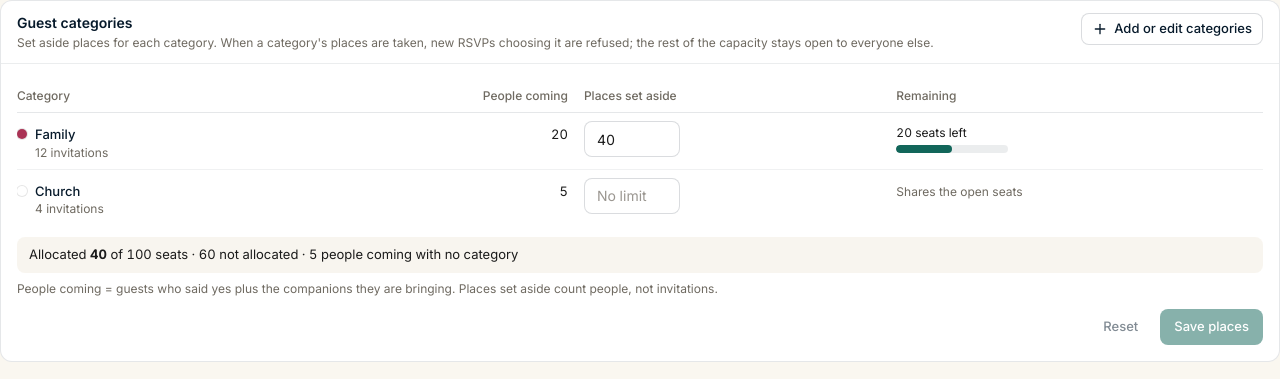
CategoryAllocations › Reset puts back the saved values
The width and height of the screenshot is (1280, 379).
Replace the text in the number field named "Places set aside for Family" with "55" at (632, 139), box 584,121 -> 680,157
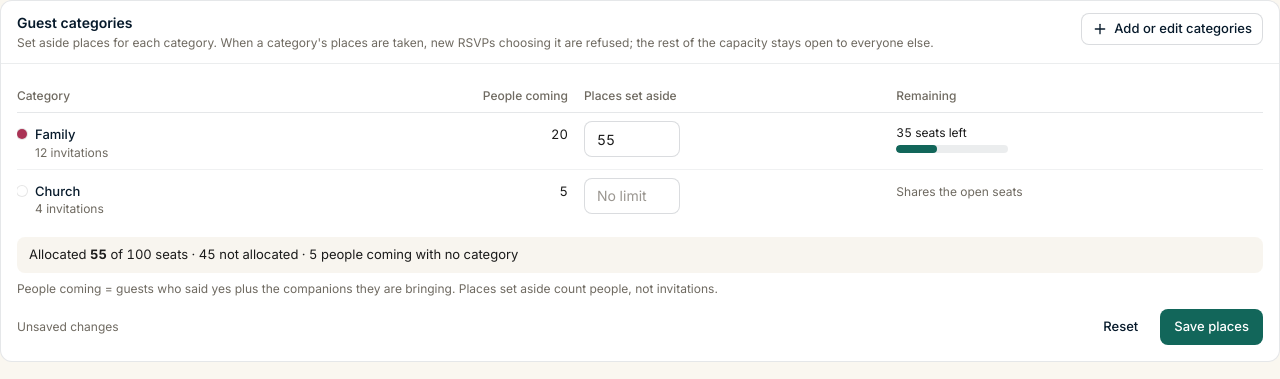
Click the button "Reset" at (1121, 326), box 1089,308 -> 1152,344
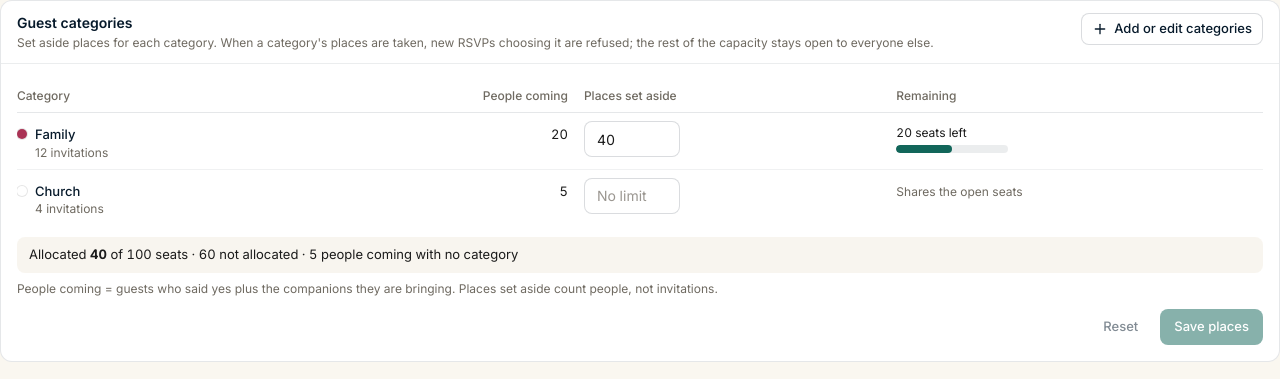
expect the number field named "Places set aside for Family" holds "40": met, box 584,121 -> 680,157
